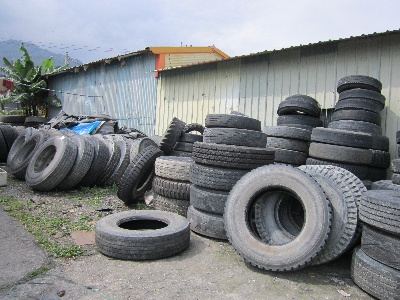tire: (222, 161, 335, 275), (93, 207, 192, 264), (114, 144, 165, 206), (25, 136, 78, 193), (191, 139, 277, 170), (308, 124, 374, 151), (307, 140, 375, 165), (203, 127, 269, 150), (158, 112, 187, 155), (205, 113, 264, 132), (328, 107, 383, 126), (272, 97, 321, 118), (263, 122, 313, 142), (334, 73, 383, 93), (264, 133, 309, 154), (330, 98, 385, 113)
